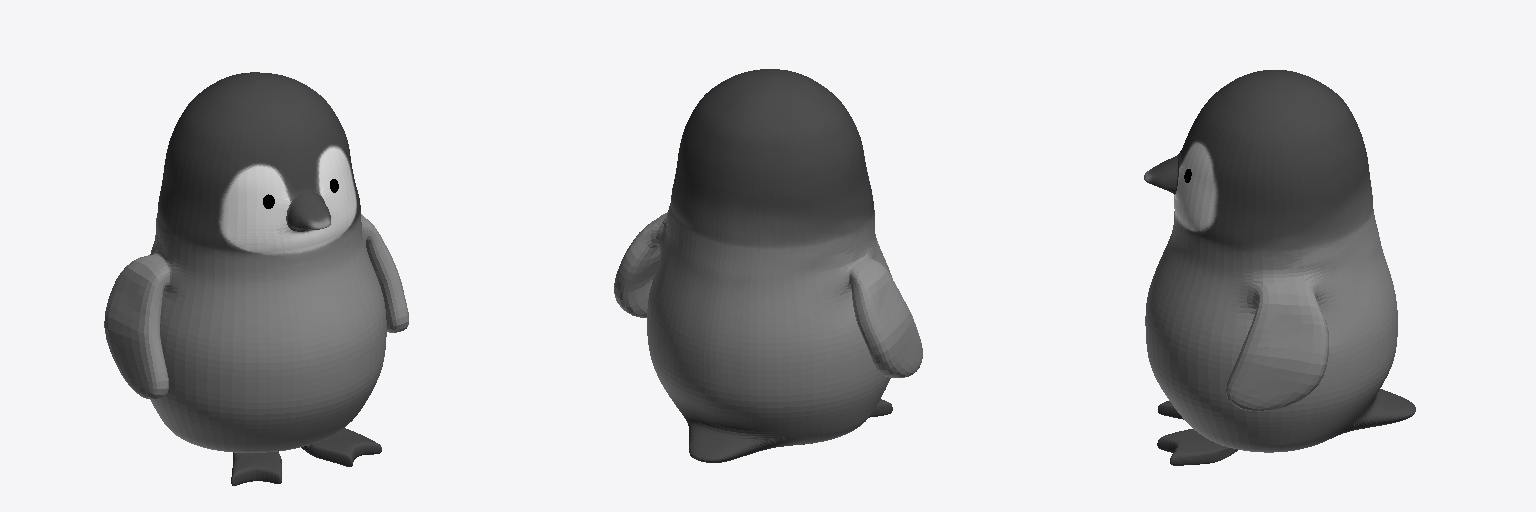
3 views of the same model, side by side, from view 1: azimuth 30°, elevation 25°; view 2: azimuth 150°, elevation 25°; view 3: azimuth 270°, elevation 25° (orthographic).
Visible parts, largest first — view 1: body; view 2: body; view 3: body.
Boxes of the visible parts, <box> form: body: <box>104,72,408,485</box>; body: <box>614,69,922,462</box>; body: <box>1144,70,1415,465</box>.
Bounding box in the file's own units: 3.41 × 4.22 × 2.94.
Materials: 2 (1 with a texture image).